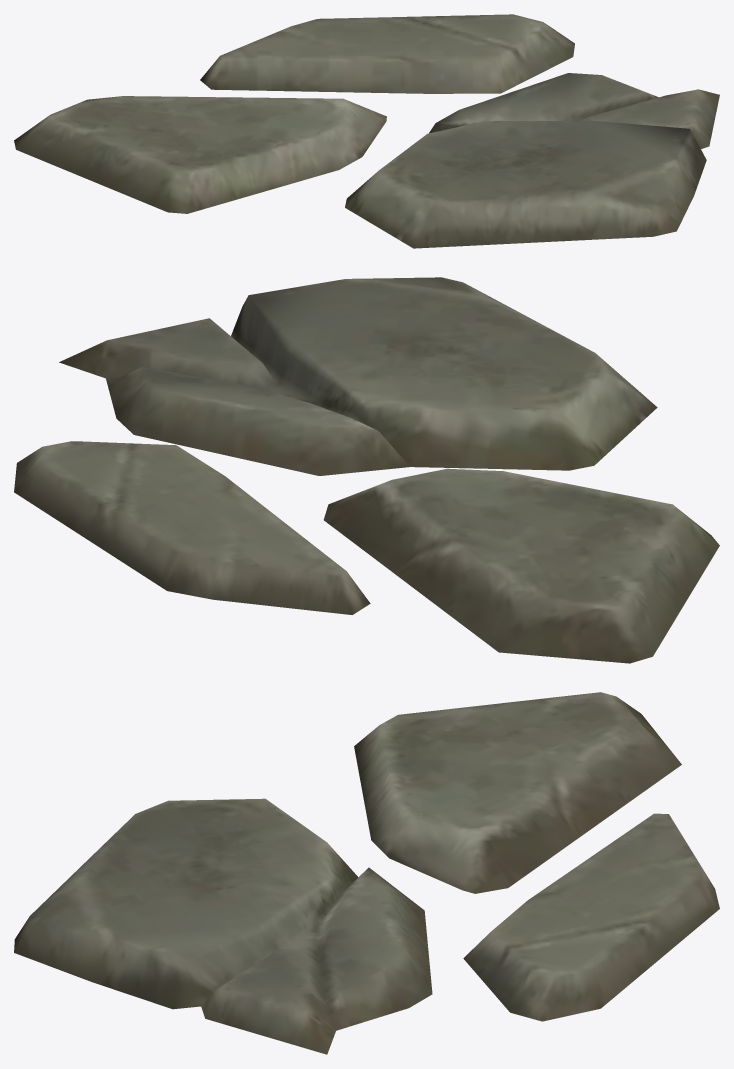
The picture shows the model from 3 angles, top to bottom: view 1: azimuth 30°, elevation 25°; view 2: azimuth 150°, elevation 25°; view 3: azimuth 270°, elevation 25°; orthographic projection. The views are drawn at different scales.
Size of the model in its own units: 3.29 by 0.1747 by 2.84.
1 material, 1 textured.
